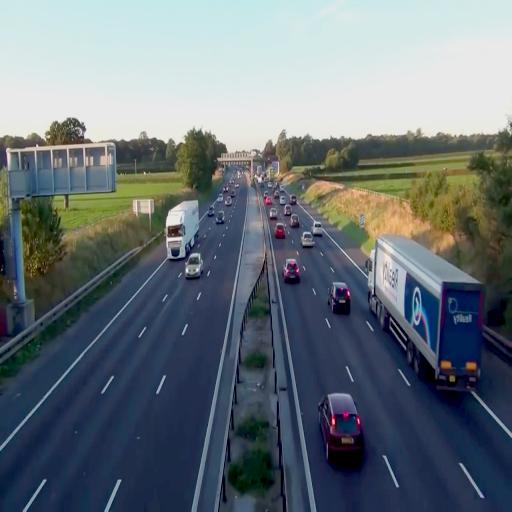vehicle: (368, 232, 484, 392), (318, 392, 364, 464), (166, 200, 200, 260), (166, 200, 199, 260), (328, 281, 352, 313), (283, 256, 302, 282), (185, 251, 202, 278), (272, 222, 287, 242), (301, 230, 314, 247), (214, 208, 225, 224)
